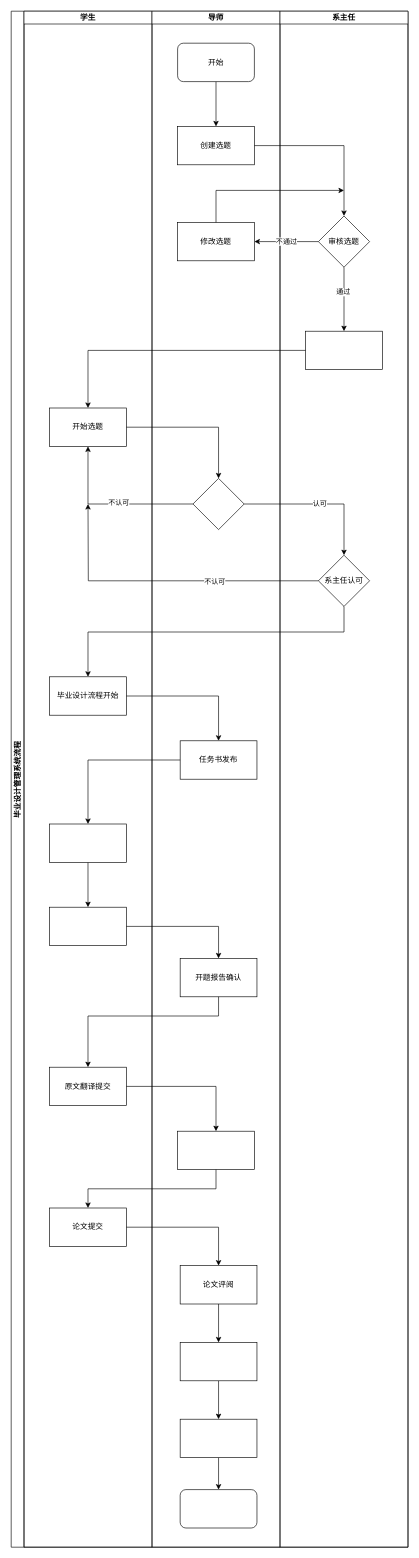
Image size: 419x1558. Some labels were removed from this diagram. Each missing label, with the centre of its shape:
"中期检查" goes at [215,1150].
"发布选题" goes at [343,350].
"同行评阅" goes at [218,1361].
"导师认可" goes at [218,504].
"开题报告提交" goes at [87,926].
"文献综述提交" goes at [87,842].
"答辩结果" goes at [218,1438].
"结束" goes at [218,1508].
